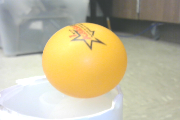PingPongBall: (43, 22, 127, 97)
